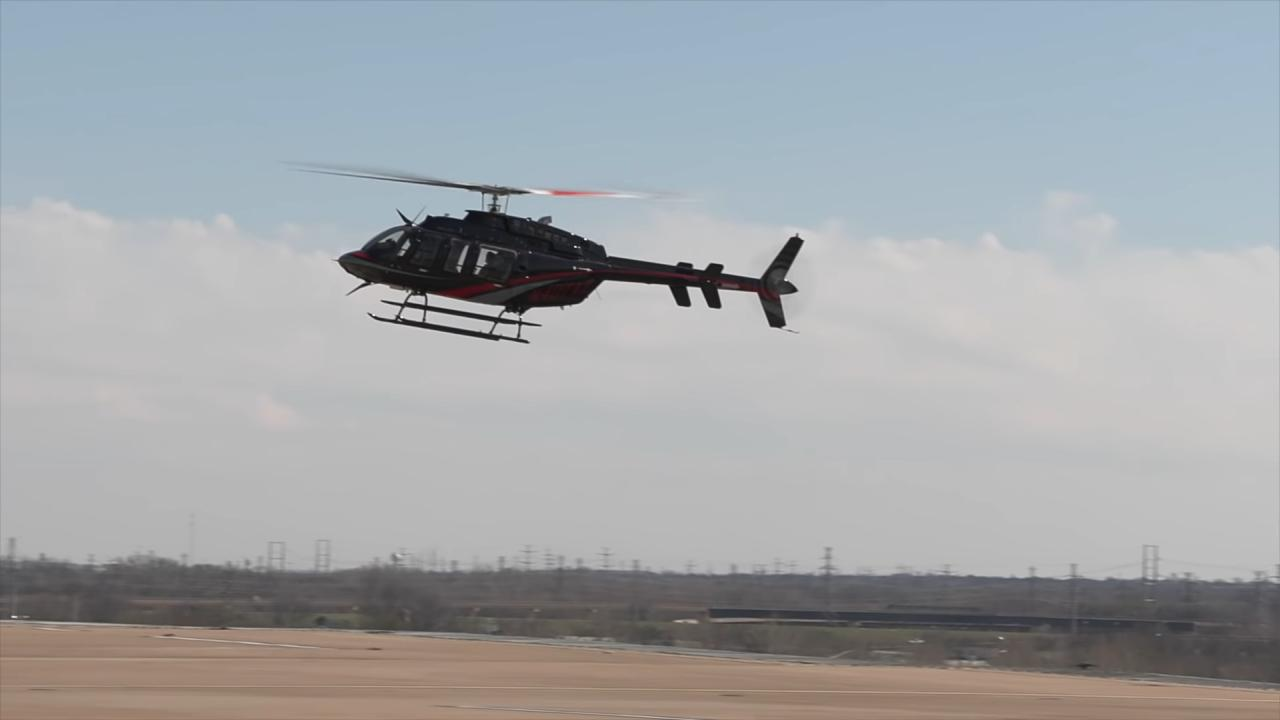Helicopter: (250, 110, 862, 406)
